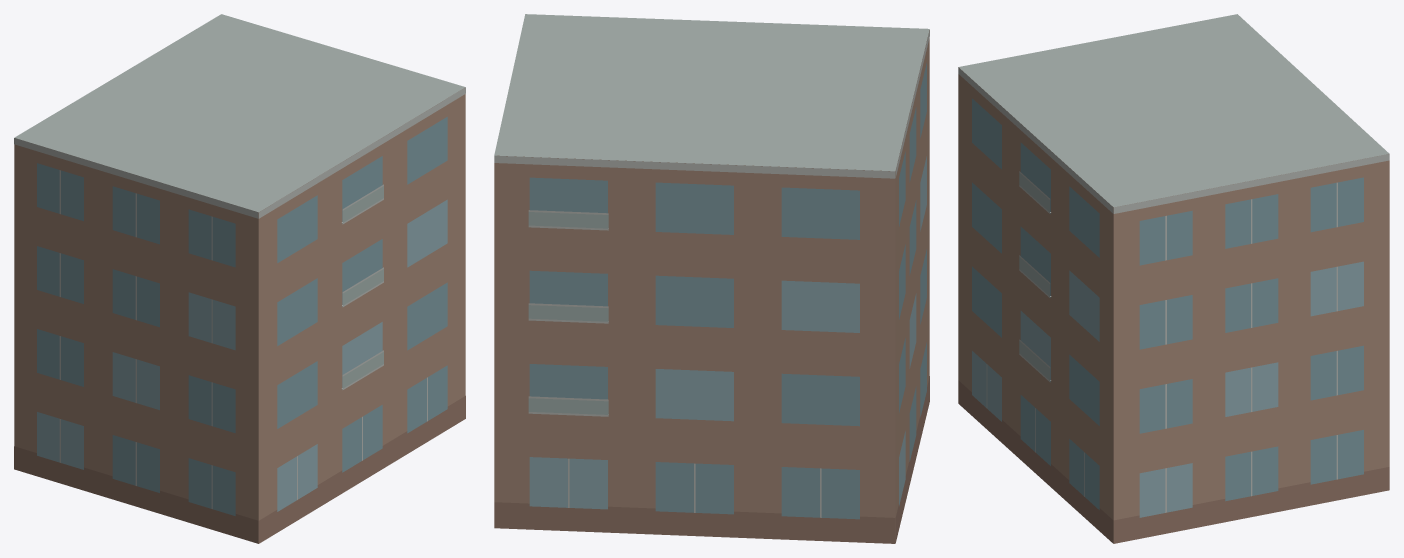
Rendered from survey-upis-32736717.glb.
3 renders of one model, left to right at view 1: azimuth 30°, elevation 25°; view 2: azimuth 150°, elevation 25°; view 3: azimuth 270°, elevation 25°, orthographic. The views are drawn at different scales.
Visible parts, largest first — view 1: survey-upis-32736717.tmp; view 2: survey-upis-32736717.tmp; view 3: survey-upis-32736717.tmp.
Part boxes in pixels (x1,y1,x2,y2): survey-upis-32736717.tmp: (14,14,465,543); survey-upis-32736717.tmp: (494,14,929,543); survey-upis-32736717.tmp: (958,14,1389,543).
Size of the model in its own units: 15.17 by 12.3 by 14.3.
